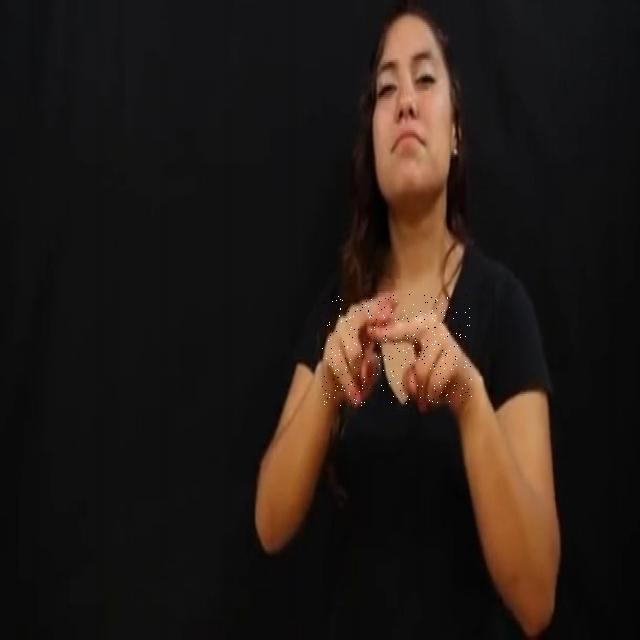salt: (322, 294, 472, 406)
